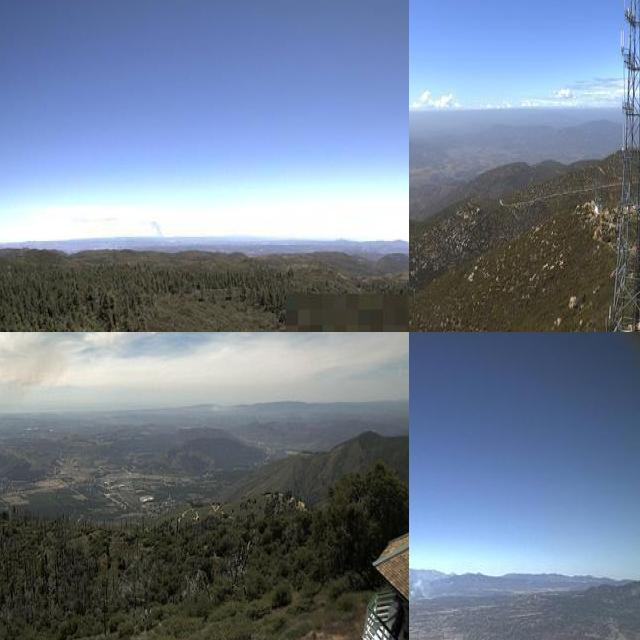smoke: (143, 214, 171, 249), (409, 569, 436, 601)
